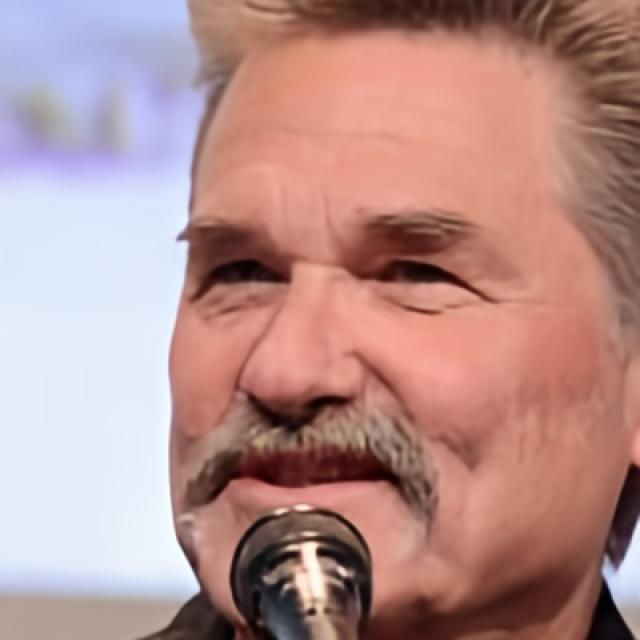happy: (164, 30, 626, 630)
